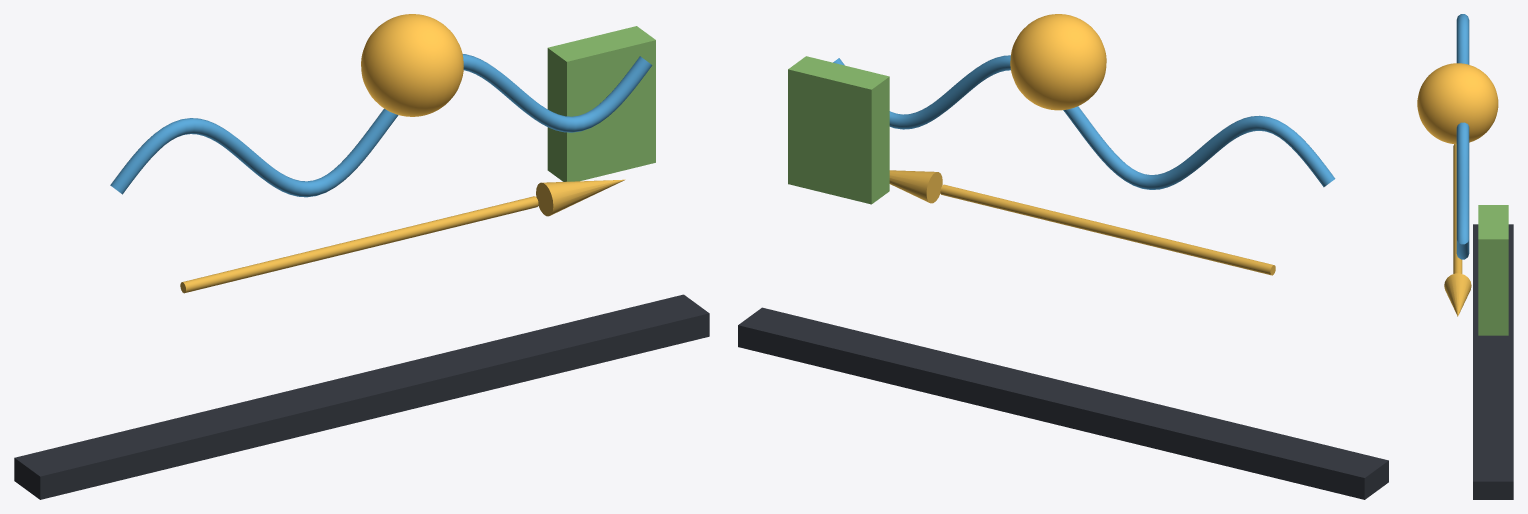
Rendered from physics-modern-photon.glb.
3 renders of one model, left to right at view 1: azimuth 30°, elevation 25°; view 2: azimuth 150°, elevation 25°; view 3: azimuth 270°, elevation 25°, orthographic. The views are drawn at different scales.
Visible parts, largest first — view 1: modern-physics-bench, detector-click-panel, wave-path-light-travel, energy-packet-photon, photon-direction-shaft, photon-direction-head; view 2: modern-physics-bench, detector-click-panel, energy-packet-photon, wave-path-light-travel, photon-direction-shaft, photon-direction-head; view 3: modern-physics-bench, energy-packet-photon, detector-click-panel, wave-path-light-travel, photon-direction-head, photon-direction-shaft.
Boxes of the visible parts, left/top/right/bottom form: modern-physics-bench: left=14, top=294, right=709, bottom=499; detector-click-panel: left=547, top=26, right=655, bottom=181; wave-path-light-travel: left=110, top=54, right=652, bottom=197; energy-packet-photon: left=361, top=14, right=463, bottom=116; photon-direction-shaft: left=180, top=196, right=538, bottom=293; photon-direction-head: left=536, top=179, right=625, bottom=216; modern-physics-bench: left=738, top=307, right=1388, bottom=499; detector-click-panel: left=788, top=56, right=889, bottom=204; energy-packet-photon: left=1010, top=14, right=1106, bottom=110; wave-path-light-travel: left=833, top=55, right=1335, bottom=189; photon-direction-shaft: left=940, top=184, right=1275, bottom=275; photon-direction-head: left=889, top=170, right=942, bottom=203; modern-physics-bench: left=1473, top=224, right=1513, bottom=499; energy-packet-photon: left=1417, top=63, right=1498, bottom=144; detector-click-panel: left=1478, top=205, right=1508, bottom=335; wave-path-light-travel: left=1456, top=14, right=1469, bottom=259; photon-direction-head: left=1444, top=273, right=1471, bottom=316; photon-direction-shaft: left=1453, top=144, right=1462, bottom=273.
Size of what is drawn, in the model's own units: 2.4 by 1.37 by 0.38.
